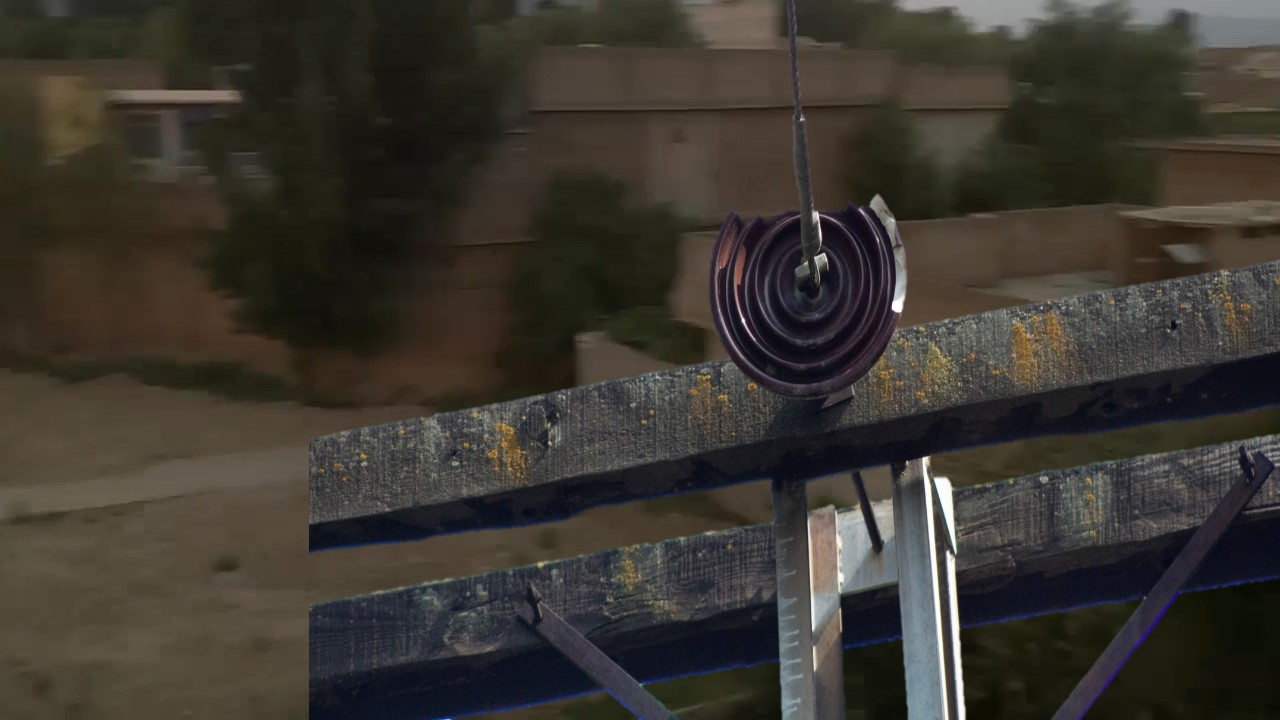defect_disc: (704, 186, 913, 411)
